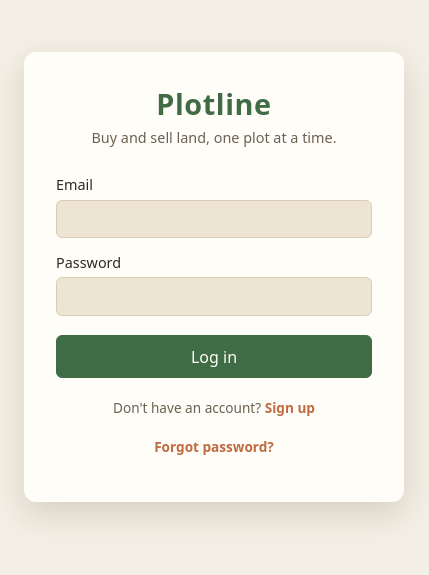
LoginPage › shows the backend error message on failure
In the field labelled "Email": [214, 219] box [56,200,372,238], type "user@example.com"
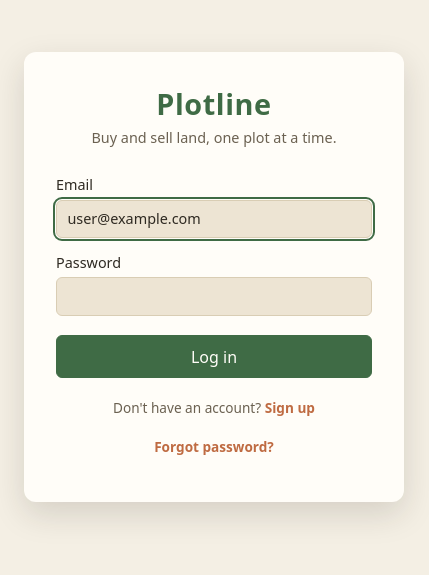
In the password field labelled "Password": [214, 296] box [56,277,372,316], type "password123"
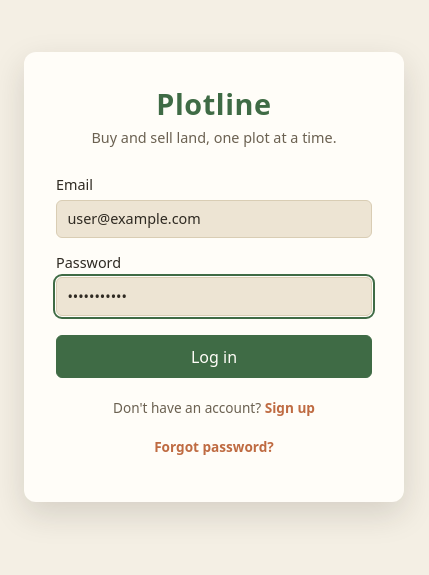
Click the button "Log in": [214, 357] box [56,335,372,378]
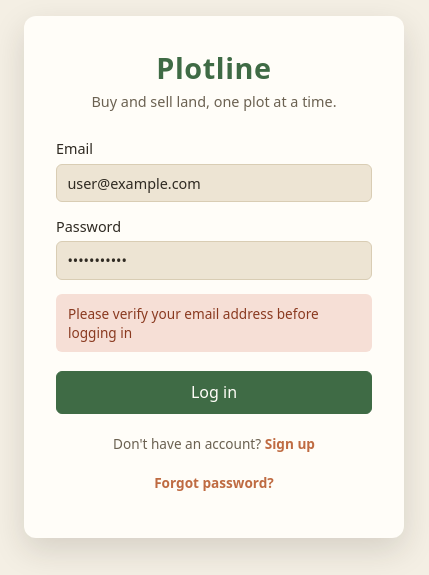
expect the text "Please verify your email address before logging in" is shown: met, box [56,294,372,352]
